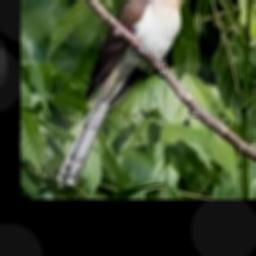Cuckoo: (56, 0, 196, 188)
